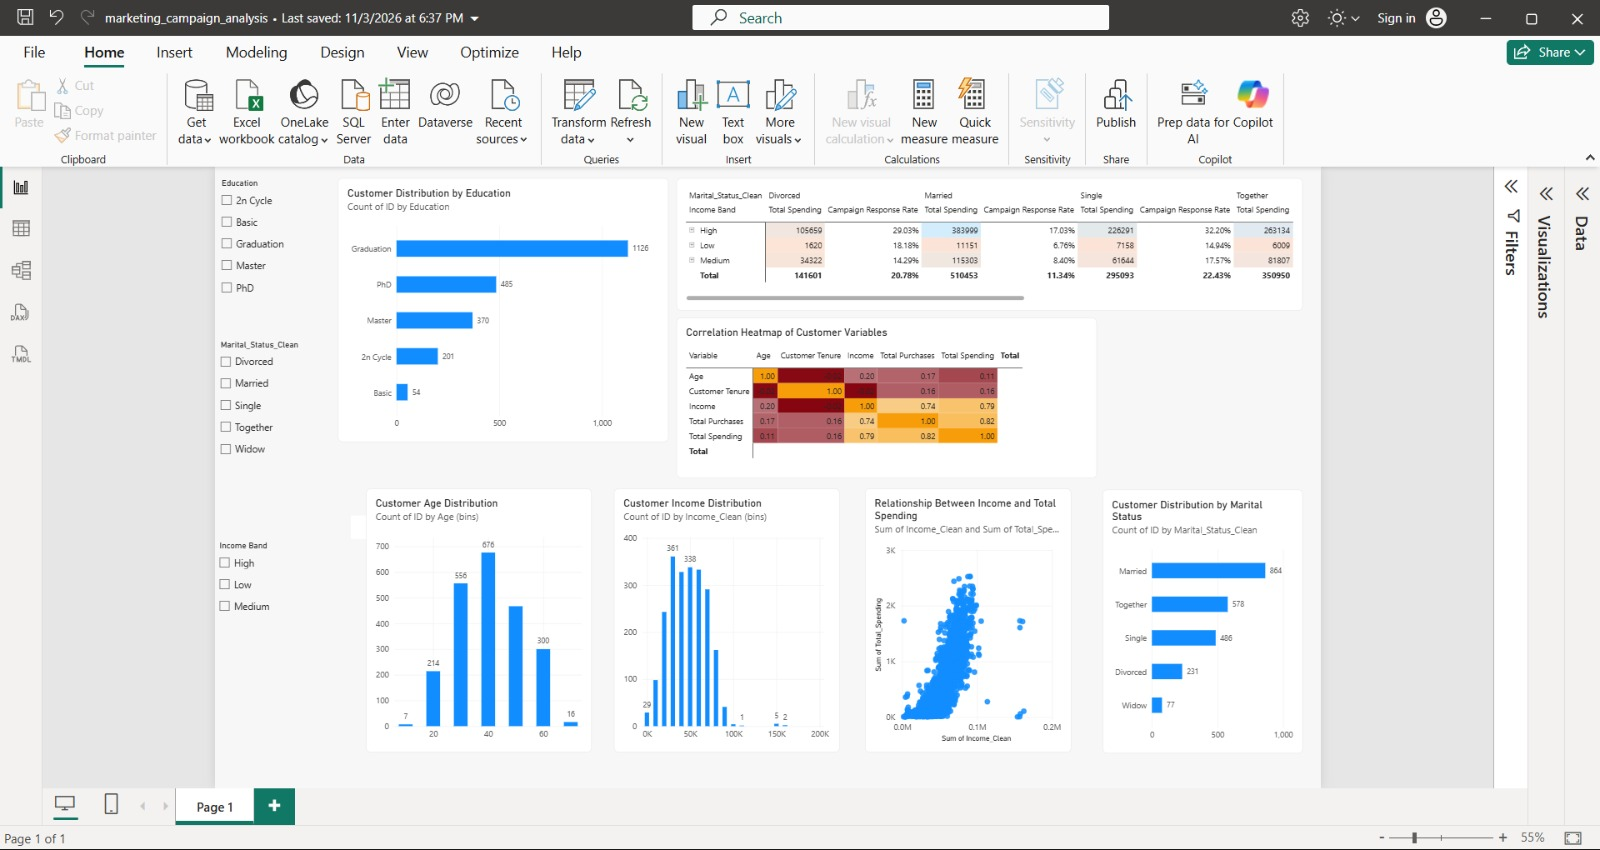

What the dashboard file says about the page in this screenshot:
{"tool":"powerbi","page":{"name":"Page 1","canvas":[1920,1080],"ordinal":0},"visuals":[{"type":"slicer","fields":{"Values":["marketing_campaign.Education"]},"box":[10,0,280,280],"z":0},{"type":"slicer","fields":{"Values":["marketing_campaign.Marital_Status_Clean"]},"box":[10,290,280,280],"z":1},{"type":"slicer","fields":{"Values":["marketing_campaign.Income Band"]},"box":[10,580,280,280],"z":2},{"type":"clusteredBarChart","title":"Customer Distribution by Education","fields":{"Category":["marketing_campaign.Education"],"Y":["CountNonNull(marketing_campaign.ID)"]},"box":[194,20,662,458],"z":3},{"type":"clusteredBarChart","title":"Customer Distribution by Marital Status","fields":{"Category":["marketing_campaign.Marital_Status_Clean"],"Y":["CountNonNull(marketing_campaign.ID)"]},"box":[1426,604,348,458],"z":4},{"type":"clusteredColumnChart","title":"Customer Age Distribution","fields":{"Category":["marketing_campaign.Age (bins)"],"Y":["CountNonNull(marketing_campaign.ID)"]},"box":[194,524,392,458],"z":5},{"type":"clusteredColumnChart","title":"Customer Income Distribution","fields":{"Category":["marketing_campaign.Income_Clean (bins)"],"Y":["CountNonNull(marketing_campaign.ID)"]},"box":[606,524,392,458],"z":6},{"type":"scatterChart","title":"Relationship Between Income and Total Spending","fields":{"Category":["marketing_campaign.ID"],"X":["Sum(marketing_campaign.Income_Clean)"],"Y":["Sum(marketing_campaign.Total_Spending)"]},"box":[1014,580,358,458],"z":7},{"type":"pivotTable","fields":{"Columns":["marketing_campaign.Marital_Status_Clean"],"Rows":["marketing_campaign.Income Band","marketing_campaign.Education"],"Values":["marketing_campaign.Total Spending","marketing_campaign.Campaign Response Rate"]},"box":[898,20,200,210],"z":8},{"type":"pivotTable","title":"Correlation Heatmap of Customer Variables","fields":{"Columns":["Correlation Columns.Variable"],"Rows":["Correlation Rows.Variable"],"Values":["Correlation Columns.Correlation Coefficient"]},"box":[1128,46,730,402],"z":10}]}

Visuals, with their boxes on the page's 1920x1080 design canvas (x1, y1, x2, y2). These are canvas units, not pixel positions in the 1600x850 screenshot, which may show the page scaled, cropped or inside an application window:
slicer - marketing_campaign.Education: Rect(10, 0, 290, 280)
slicer - marketing_campaign.Marital_Status_Clean: Rect(10, 290, 290, 570)
slicer - marketing_campaign.Income Band: Rect(10, 580, 290, 860)
"Customer Distribution by Education" clusteredBarChart: Rect(194, 20, 856, 478)
"Customer Distribution by Marital Status" clusteredBarChart: Rect(1426, 604, 1774, 1062)
"Customer Age Distribution" clusteredColumnChart: Rect(194, 524, 586, 982)
"Customer Income Distribution" clusteredColumnChart: Rect(606, 524, 998, 982)
"Relationship Between Income and Total Spending" scatterChart: Rect(1014, 580, 1372, 1038)
pivotTable - marketing_campaign.Marital_Status_Clean x marketing_campaign.Income Band: Rect(898, 20, 1098, 230)
"Correlation Heatmap of Customer Variables" pivotTable: Rect(1128, 46, 1858, 448)
